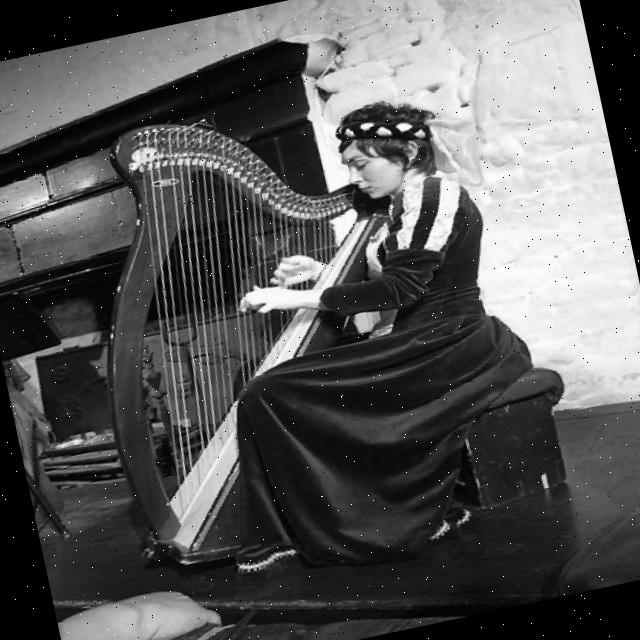harp: (51, 80, 462, 580)
